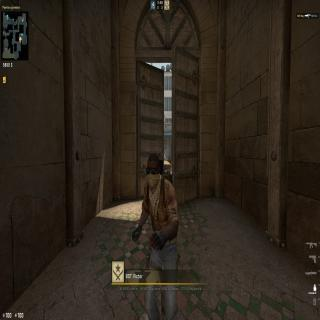T-Head: (146, 148, 162, 196)
